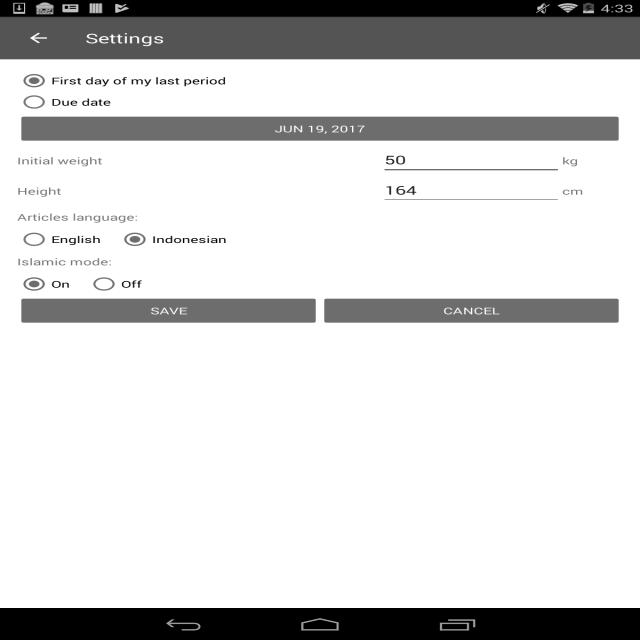Button: (17, 112, 623, 144), (17, 294, 320, 326), (320, 294, 623, 326)
EditText: (380, 145, 562, 175), (380, 175, 562, 205)
ImageButton: (9, 17, 68, 59)
RadioButton: (17, 70, 226, 91), (118, 229, 227, 250), (17, 91, 111, 113), (17, 229, 101, 250), (87, 273, 142, 295), (17, 273, 70, 295)
TextView: (17, 154, 380, 167), (17, 185, 380, 197), (17, 211, 139, 223), (86, 29, 164, 47), (17, 255, 112, 268), (562, 154, 623, 167), (562, 185, 623, 197)
